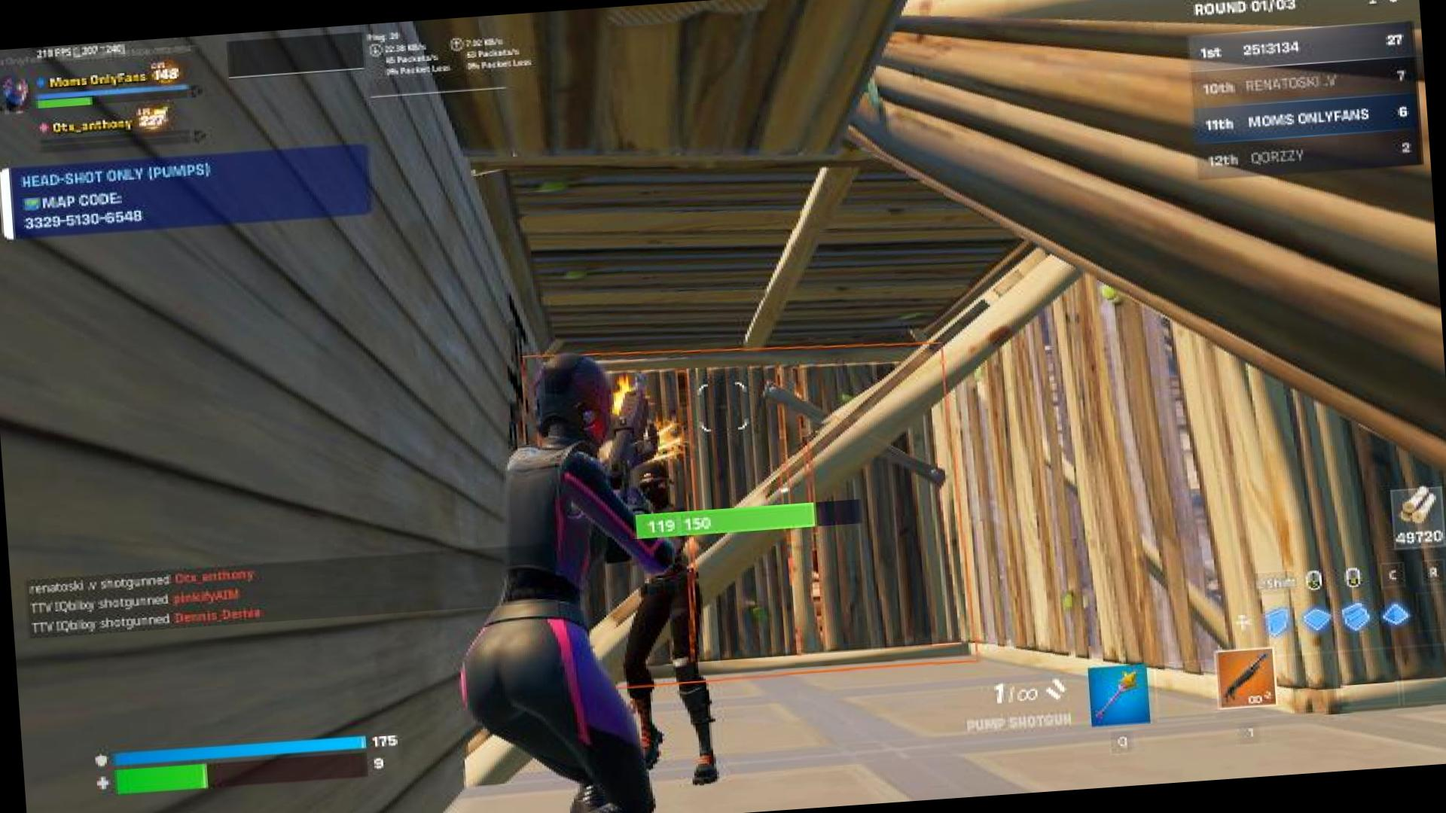player: (626, 455, 739, 789)
